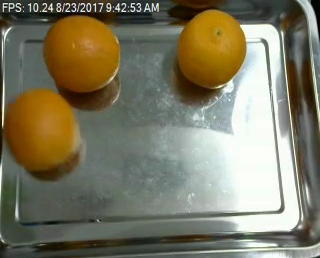Orange: (44, 15, 122, 93), (8, 90, 81, 171), (177, 9, 246, 88)
